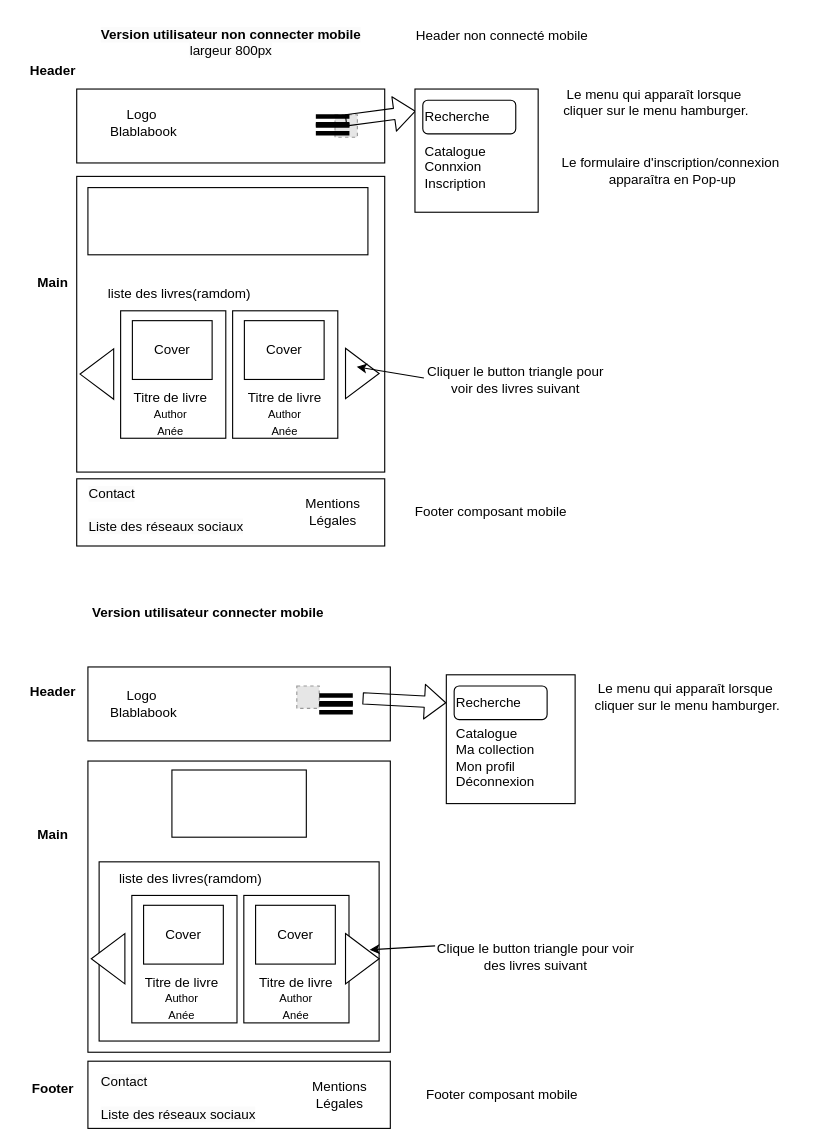
This 813x1148 diagram has some shape labels left out. Grey dashed boxes stand in for pictures. The shapes that lost their labels are listed below. From the top down, each one's centre as x and y in pixels, then its label:
At point 227,220: "Présentation de site".
At point 238,803: "Suggestion de livres".
